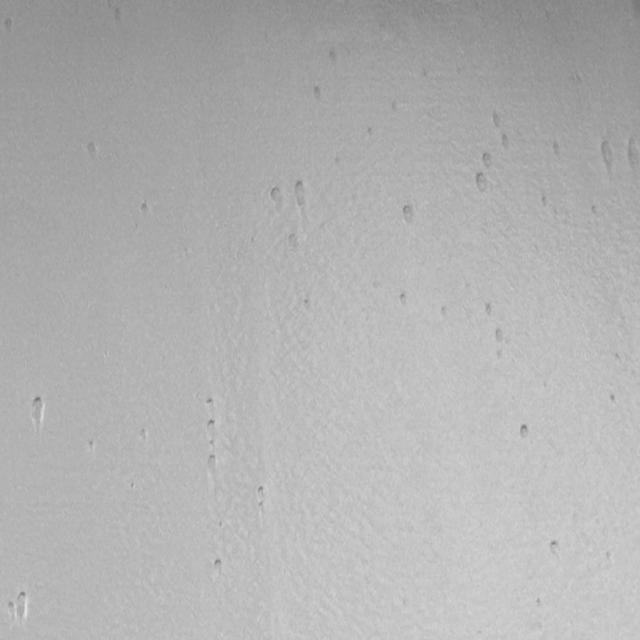pin holes: (595, 138, 621, 178), (291, 176, 312, 216), (27, 394, 48, 428), (11, 591, 32, 623), (265, 182, 287, 212), (401, 202, 421, 229), (488, 111, 506, 140), (5, 596, 21, 624), (110, 3, 129, 26), (548, 536, 566, 560), (84, 140, 102, 164), (325, 44, 343, 68), (204, 452, 221, 476), (474, 170, 492, 192), (286, 230, 302, 253), (309, 84, 326, 104), (2, 15, 18, 35), (518, 423, 534, 443), (256, 483, 271, 504), (397, 290, 412, 310), (550, 138, 565, 158), (479, 152, 496, 169), (482, 300, 497, 319), (494, 326, 508, 346), (137, 200, 152, 218), (364, 123, 379, 141), (301, 295, 315, 313), (588, 201, 602, 218), (438, 302, 451, 320), (608, 393, 622, 409), (206, 416, 218, 434), (137, 428, 150, 444), (214, 557, 226, 574), (204, 397, 216, 412), (540, 194, 552, 208), (87, 440, 98, 454), (128, 481, 138, 492), (208, 438, 217, 447)
